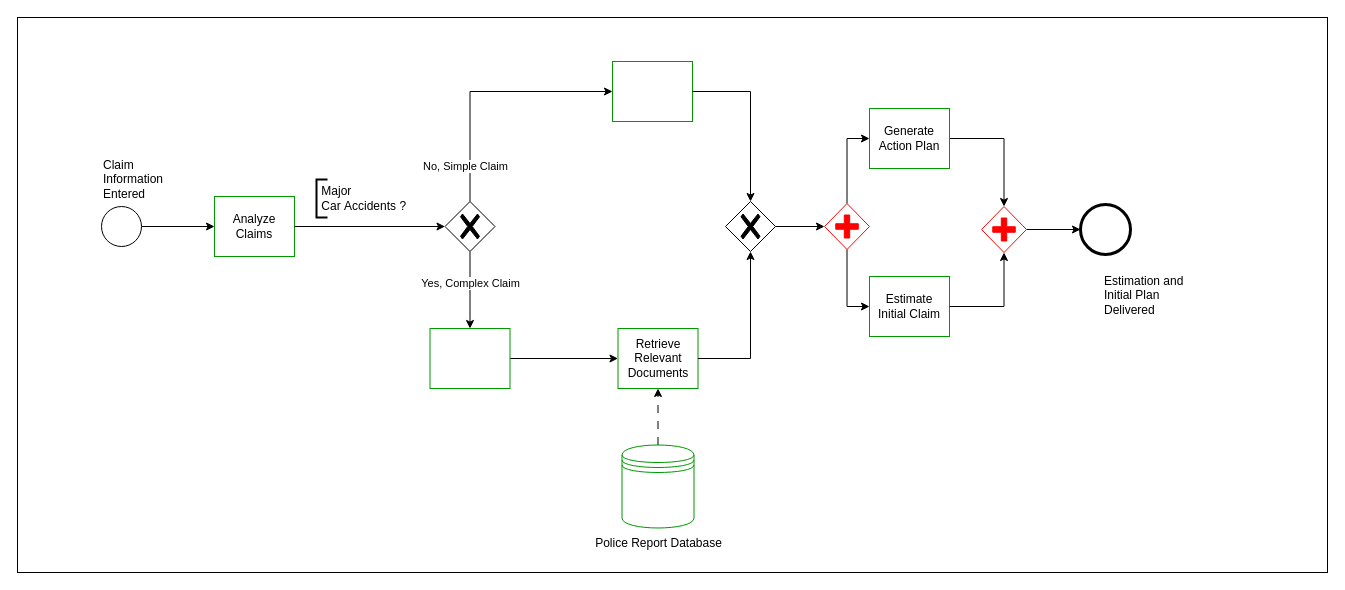
Some shapes in this 1345 by 590 pixel diagram are drawn without their labels. Here are the shapes that lost their labels. From the top down, the centre of each, then its label:
At point 652,91: "Review Relevant Documents".
At point 469,358: "Inspect Accident Vehicles".
